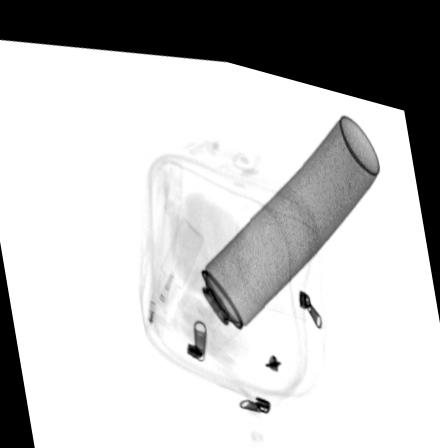Sprayer: (174, 93, 381, 342)
